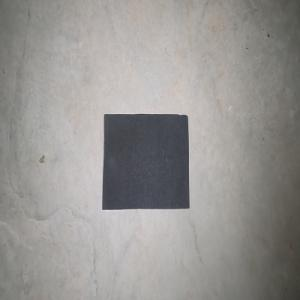PaintChip: (102, 113, 189, 210)
